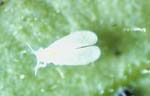whitefly: (25, 29, 101, 80)
